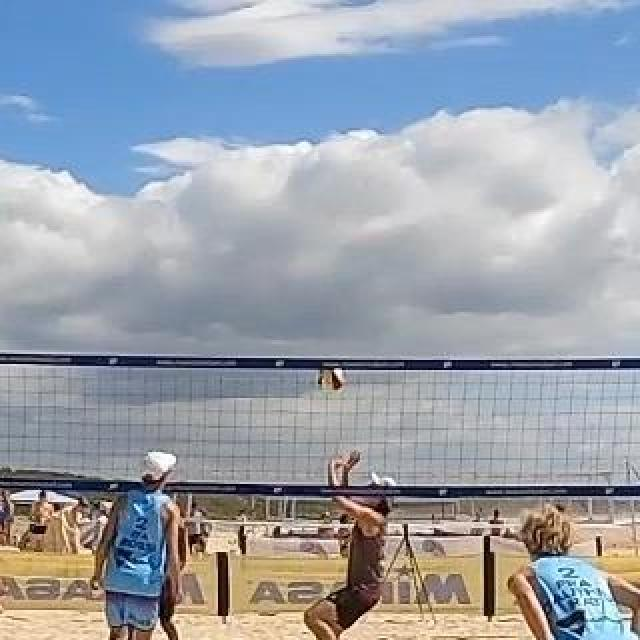volleyball: (316, 368, 344, 394)
